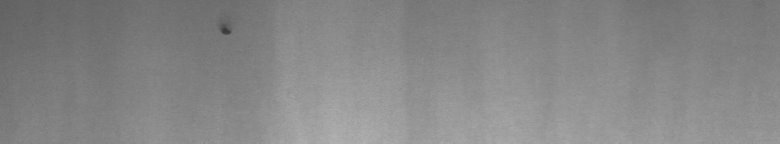fi: (216, 24, 235, 40)
